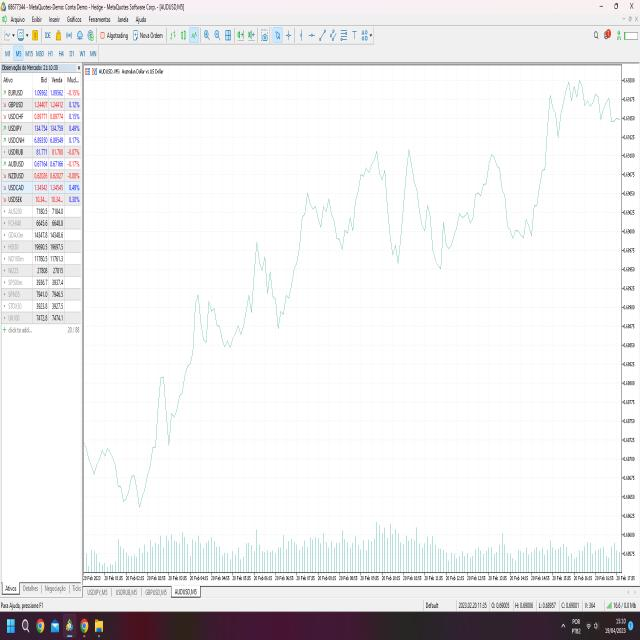fundo_duplo: (107, 418, 153, 515), (384, 208, 408, 274), (217, 322, 241, 363)
